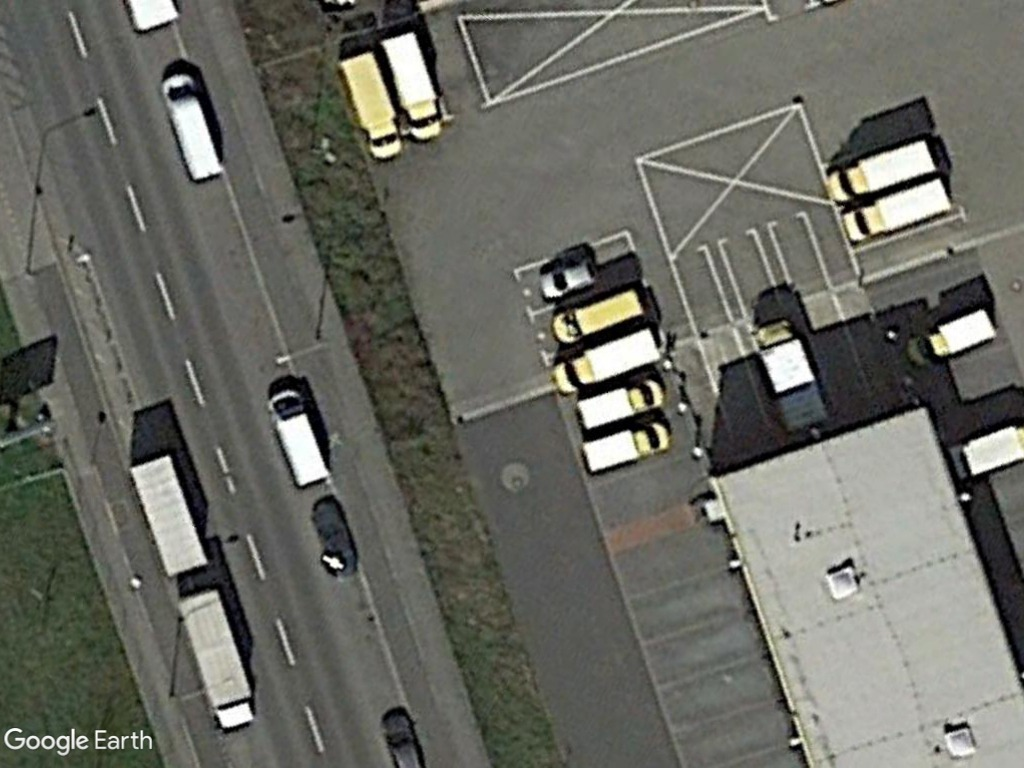car: (533, 255, 599, 304)
longvehicle: (124, 448, 210, 583)
truck: (176, 584, 258, 733), (752, 316, 829, 437), (334, 46, 407, 165), (374, 27, 446, 142), (549, 323, 659, 398), (840, 173, 950, 247), (824, 135, 938, 206), (904, 302, 994, 367), (573, 374, 668, 433), (580, 419, 672, 479)
van: (158, 69, 226, 187), (263, 385, 333, 489), (547, 282, 648, 347)
